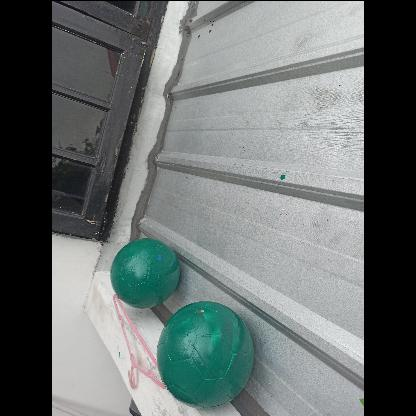green_ball: (152, 300, 258, 406), (109, 236, 179, 306)
